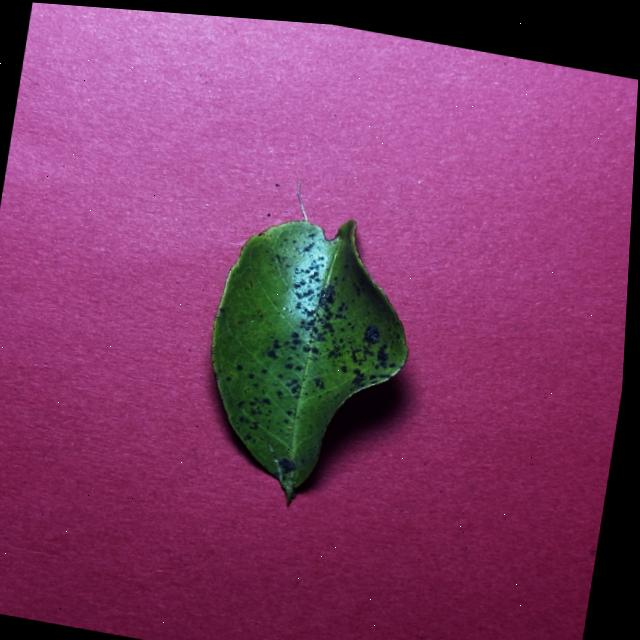sooty_mold: (212, 219, 407, 503)
